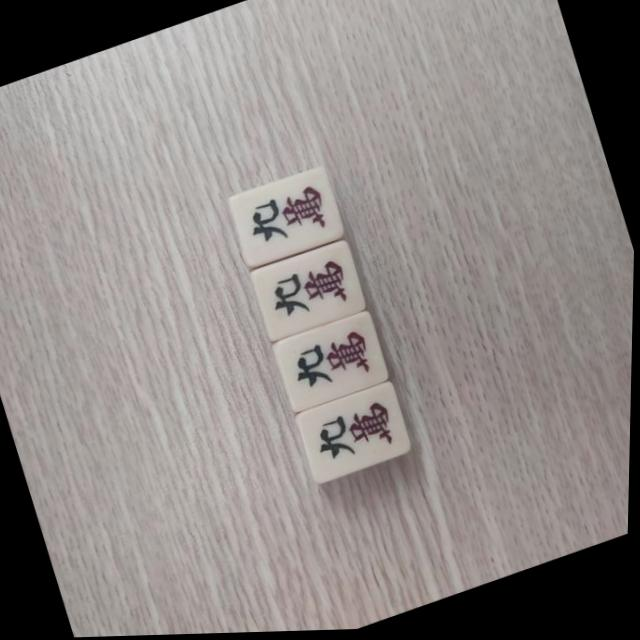sc9: (233, 173, 340, 262), (255, 248, 360, 335), (302, 393, 407, 480), (280, 320, 383, 407)
